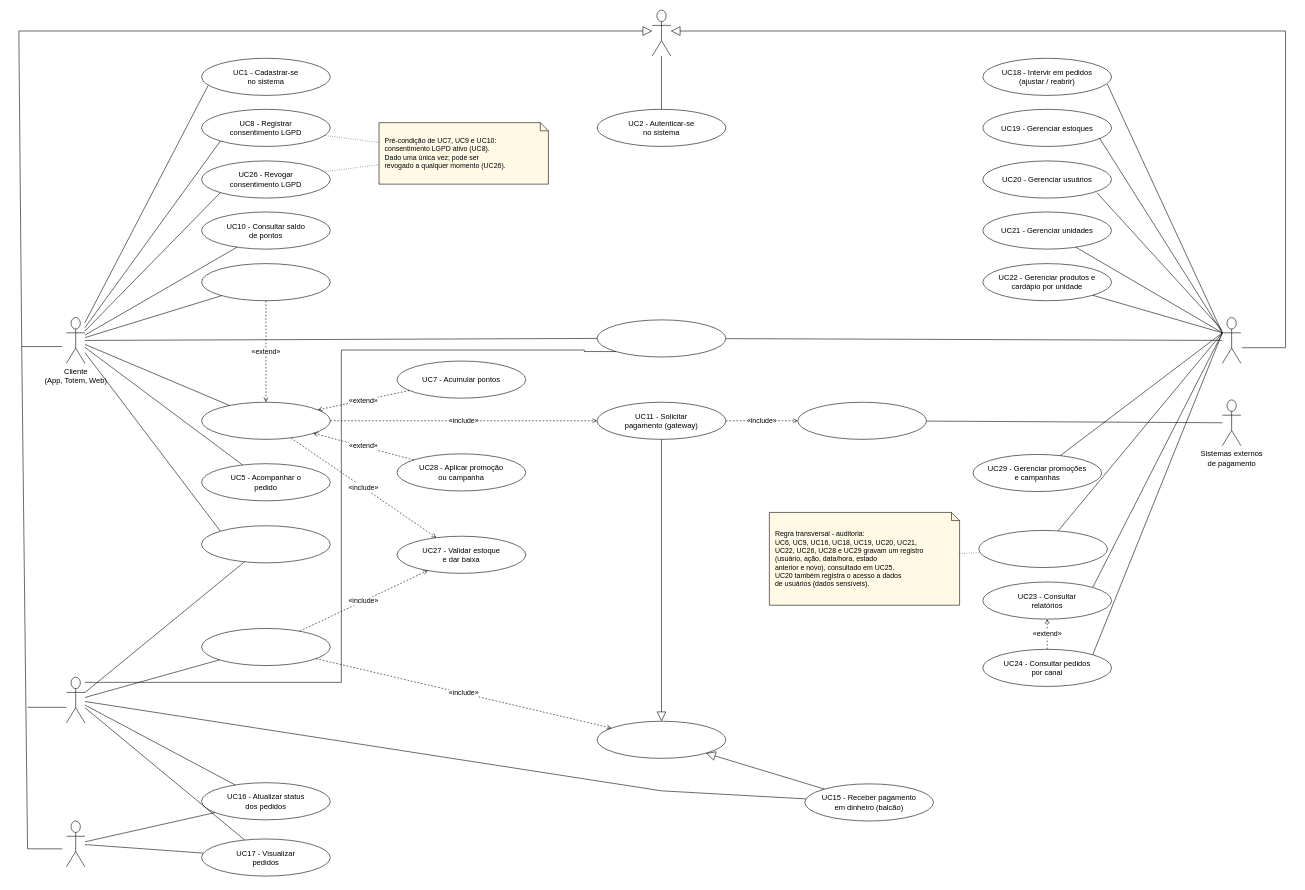
Image size: 1305x890. Some labels were removed from this diagram. Here are the shapes that lost their labels. From the top down, the box of each, then its label:
(652, 10, 671, 56): «abstract» Usuário do sistema
(201, 263, 330, 301): UC9 - Resgatar pontos
(597, 319, 726, 357): UC6 - Cancelar pedido
(1222, 317, 1241, 363): Gerente / Administrador
(201, 402, 330, 439): UC4 - Realizar o pedido
(797, 402, 927, 439): UC12 - Processar transação
(201, 525, 330, 563): UC3 - Consultar o cardápio (por unidade)
(978, 530, 1108, 568): UC25 - Consultar auditoria (logs)
(201, 628, 330, 666): UC13 - Registrar o pedido no balcão
(66, 677, 85, 723): Atendente (Balcão)
(597, 721, 726, 758): UC14 - Registrar pagamento do pedido
(66, 820, 85, 867): Cozinha
